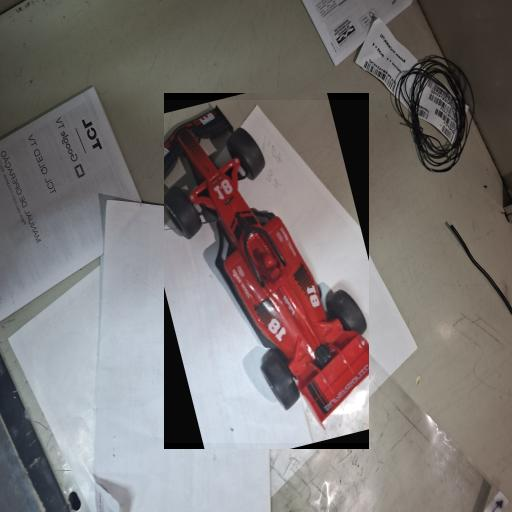carro: (164, 100, 369, 443)
